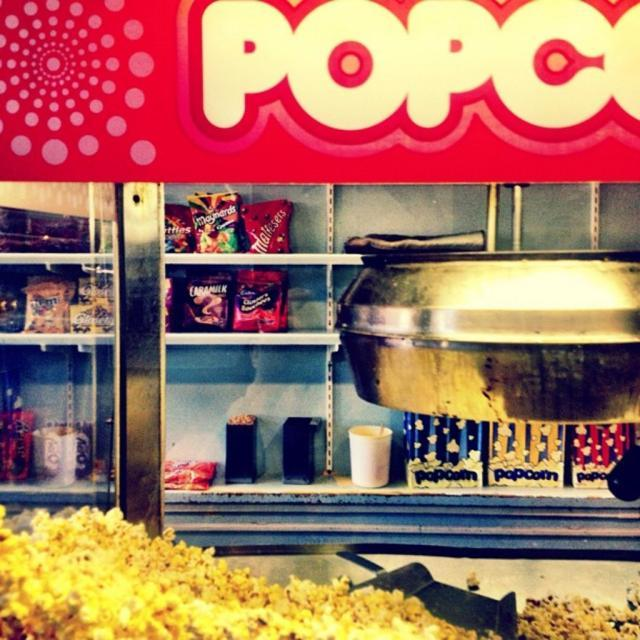Popcorn: (0, 499, 485, 639), (0, 502, 472, 639)
